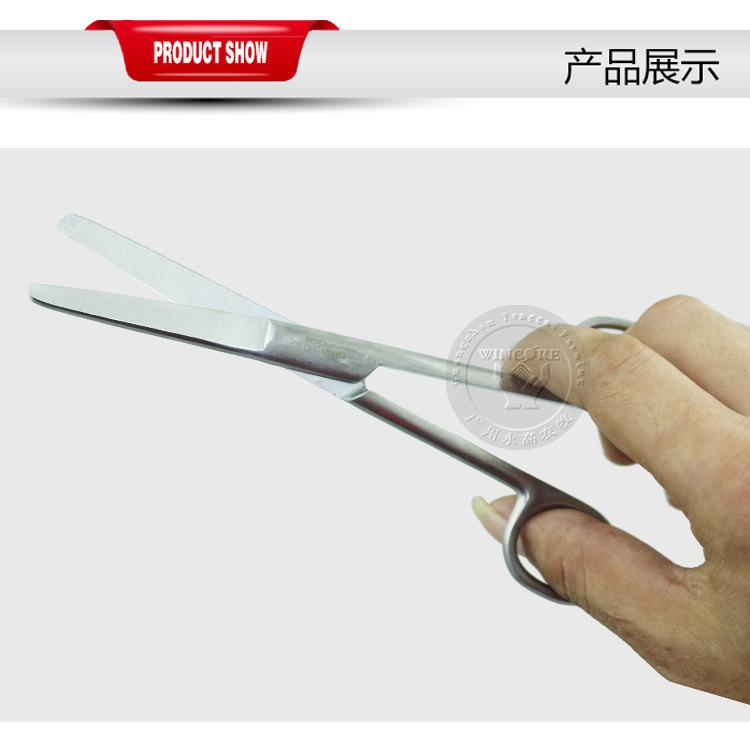scissor: (54, 174, 706, 633)
